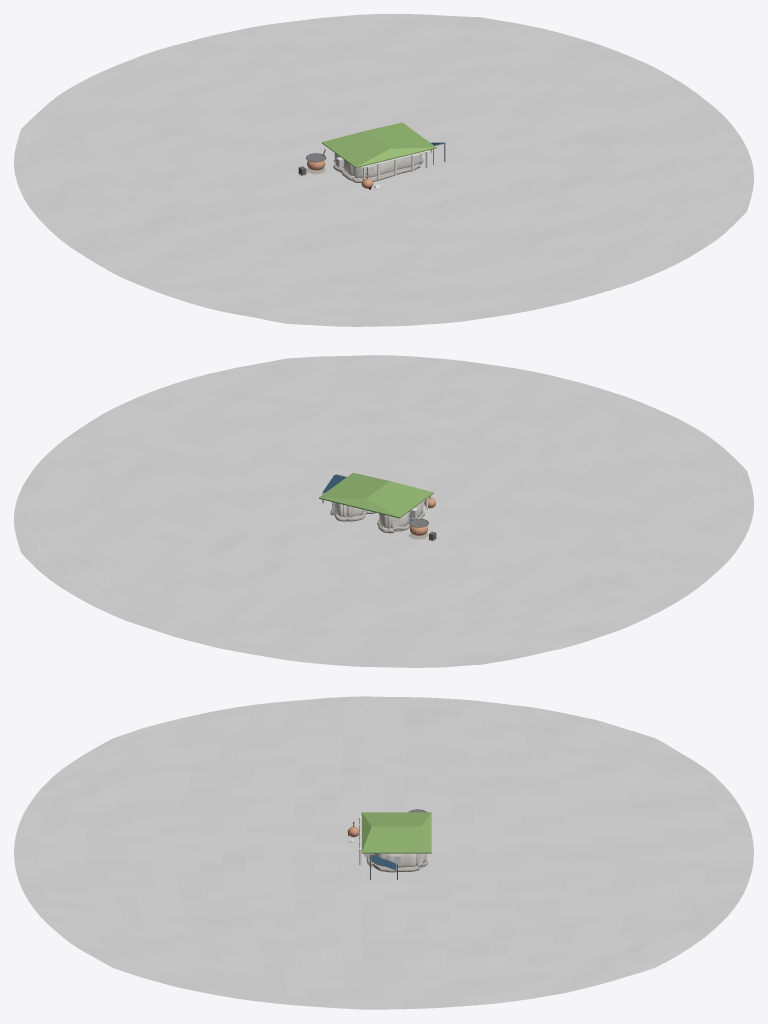
File: riverstone_cob_house.glb
3 views of the same model, one above another, from view 1: azimuth 30°, elevation 25°; view 2: azimuth 150°, elevation 25°; view 3: azimuth 270°, elevation 25° (orthographic). The views are drawn at different scales.
Parts seen in each view (by area): view 1: Ground, Roof, CobWalls; view 2: Ground, Roof, CobWalls; view 3: Ground, Roof, CobWalls.
Boxes of the visible parts, x1,y1,x2,y2 form: Ground: [14, 14, 753, 326]; Roof: [321, 122, 436, 167]; CobWalls: [334, 153, 421, 178]; Ground: [14, 355, 753, 667]; Roof: [319, 472, 433, 518]; CobWalls: [332, 501, 423, 528]; Ground: [14, 696, 753, 1009]; Roof: [361, 812, 431, 853]; CobWalls: [368, 853, 426, 867].
Bounding box in the file's own units: 110 × 4.49 × 110.
